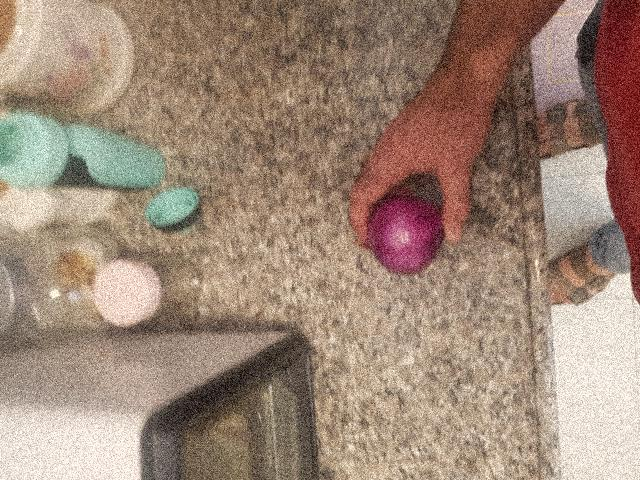onion: (209, 368, 287, 445)
